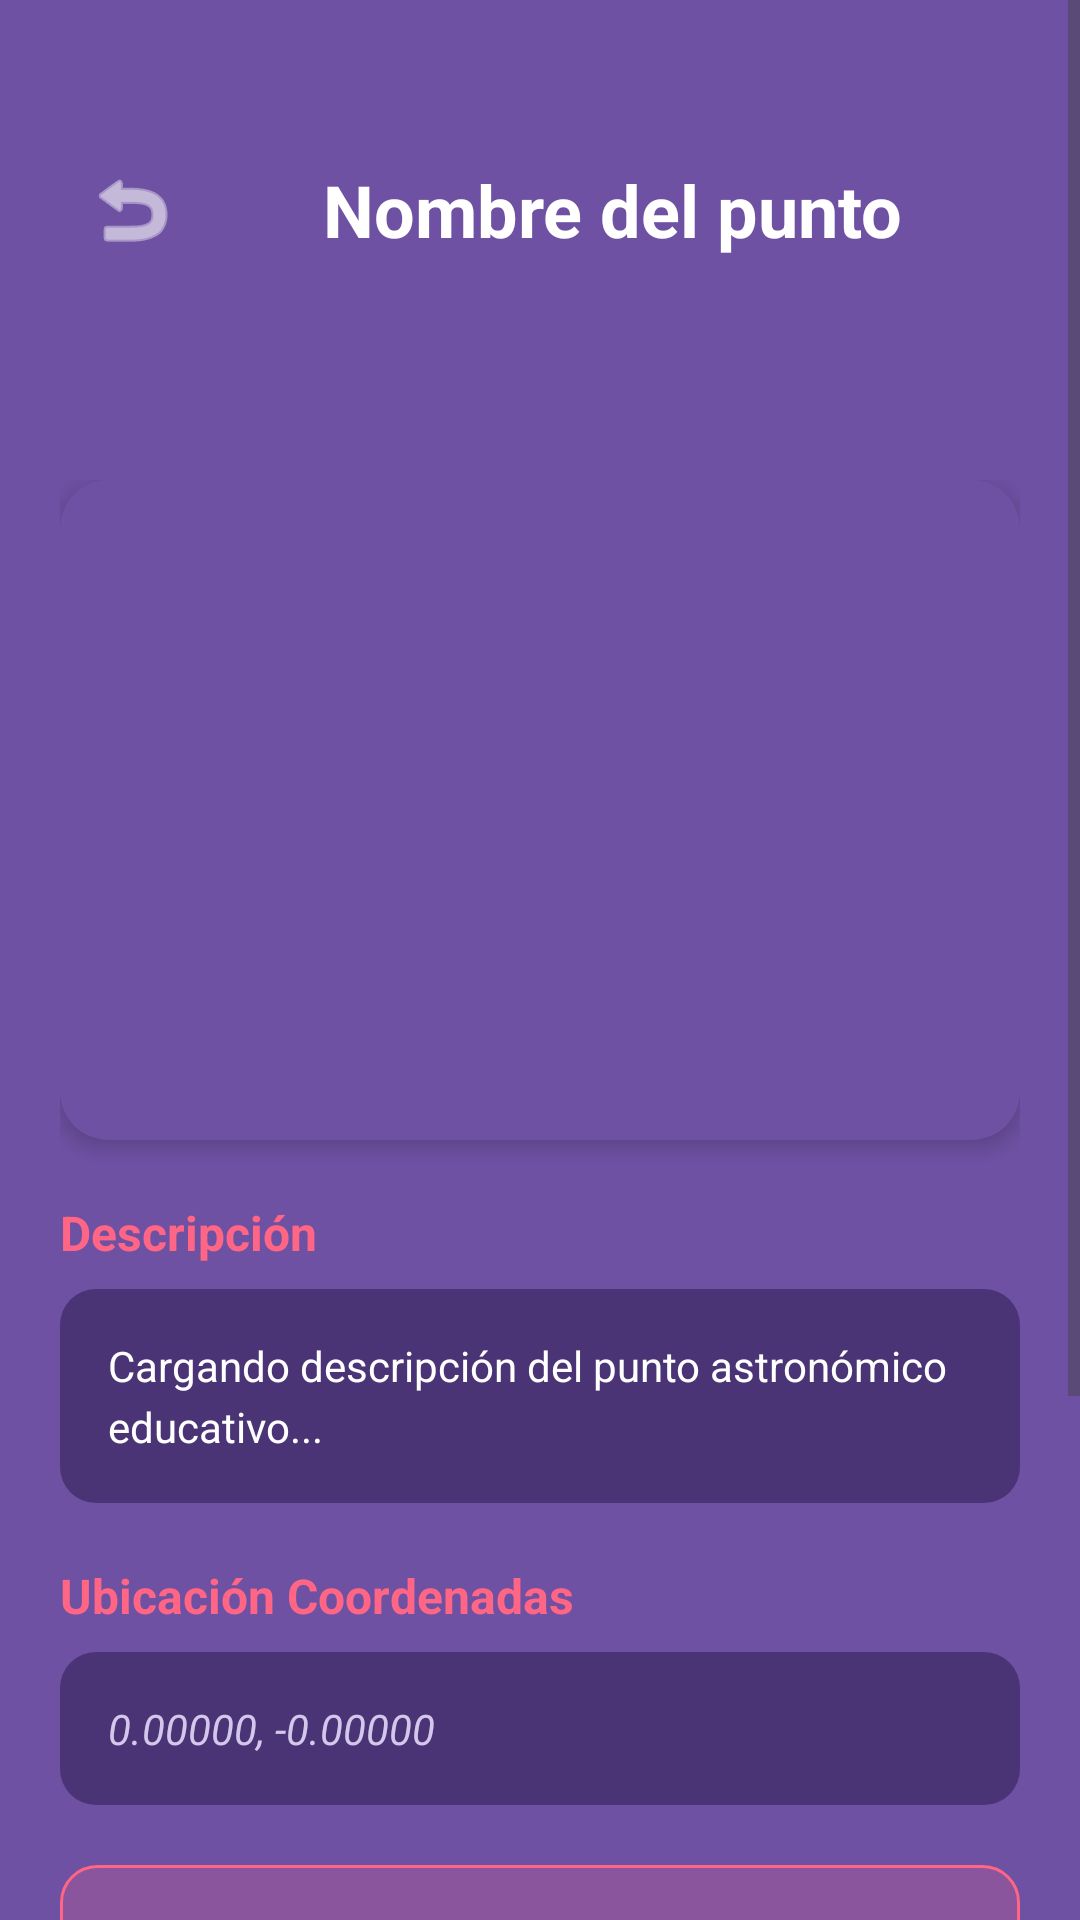

Locate icon controls on the screen. Image size 1080×1920, boxes as (x1, y1, x2, y2).
Regresar: (99, 179, 168, 242)
